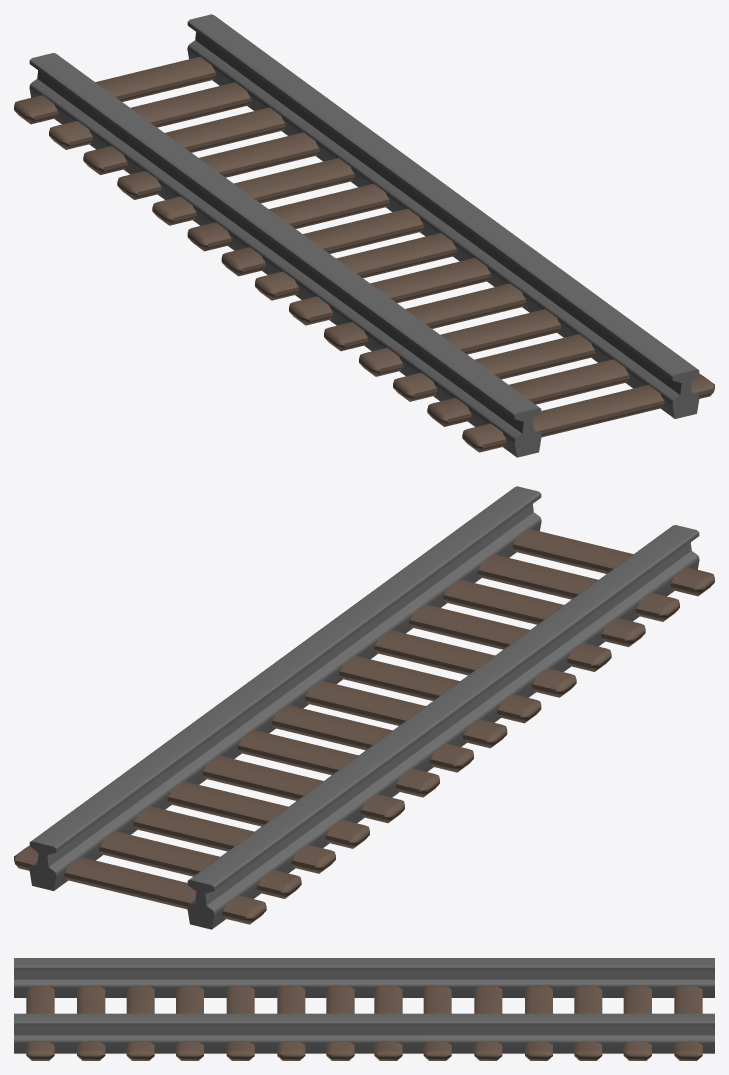
The model's file is rail_long.glb.
3 renders of one model, top to bottom at view 1: azimuth 30°, elevation 25°; view 2: azimuth 150°, elevation 25°; view 3: azimuth 270°, elevation 25°, orthographic. The views are drawn at different scales.
Visible parts, largest first — view 1: Object_3; view 2: Object_3; view 3: Object_3.
Boxes of the visible parts, x1=… form: Object_3: x1=14, y1=14, x2=714, y2=457; Object_3: x1=14, y1=486, x2=714, y2=929; Object_3: x1=14, y1=958, x2=714, y2=1060.
Bounding box in the file's own units: 1.03 × 0.1816 × 3.59.
